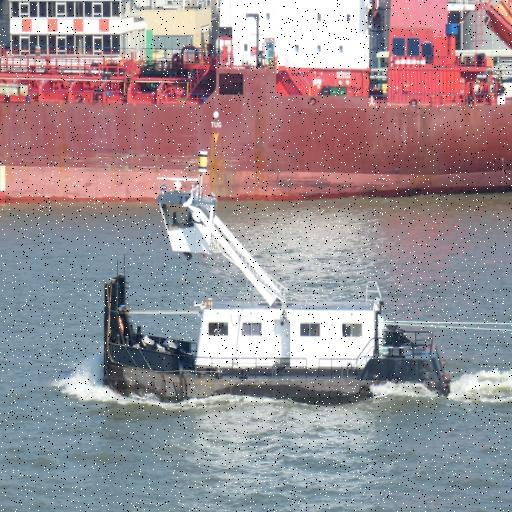tugboat: (102, 175, 455, 410)
